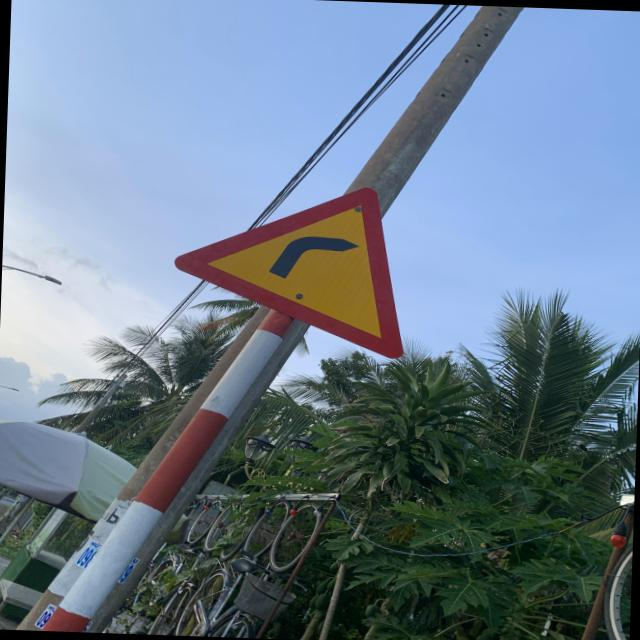Duong_Nguoi_Di_Bo_Cat_Ngang: (167, 180, 413, 362)
